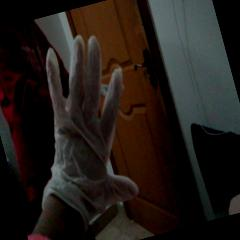gloved: (12, 28, 154, 217)
